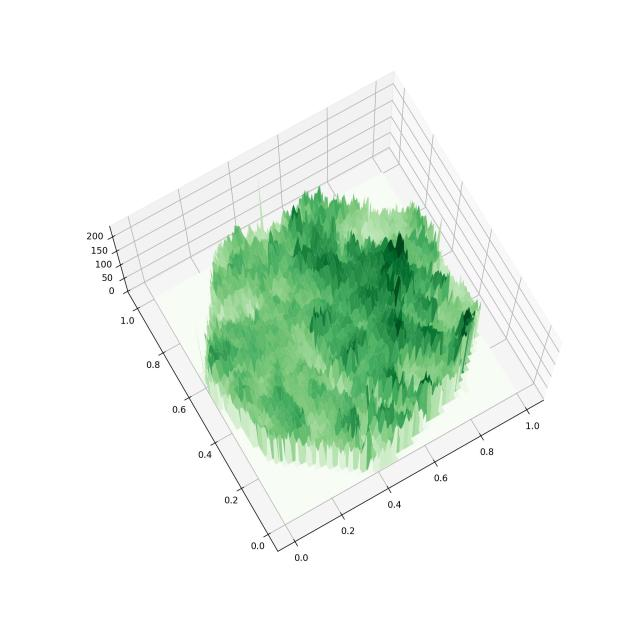fir: (76, 39, 597, 586)
